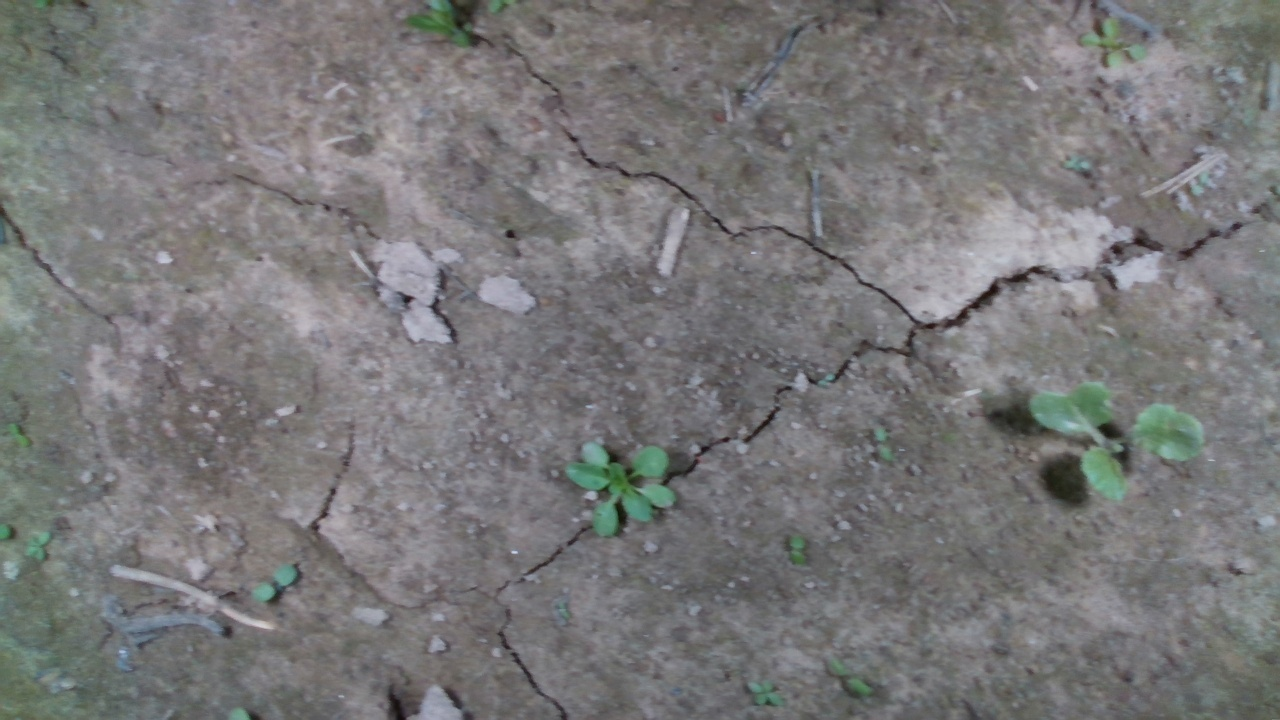weed: (247, 561, 299, 605), (826, 651, 875, 695), (745, 678, 782, 707), (22, 530, 51, 564), (871, 421, 894, 461), (788, 532, 807, 566), (7, 420, 29, 447)
